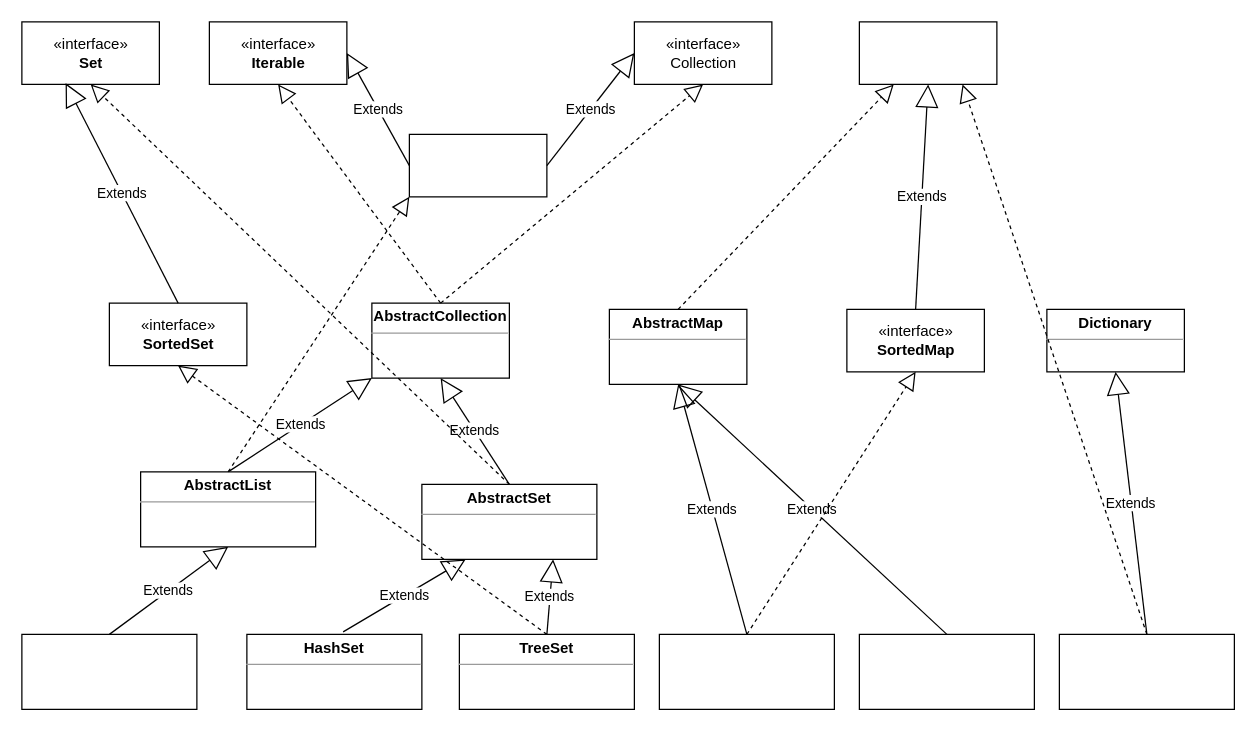
This 1256x731 diagram has some shape labels left out. Each missing label, with the box of its shape:
ArrayList: (21, 633, 197, 709)
HashMap: (858, 633, 1034, 709)
Hashtable: (1058, 633, 1234, 709)
TreeMap: (658, 633, 834, 709)
«interface» List: (408, 133, 547, 197)
«interface» Map: (858, 21, 997, 84)
